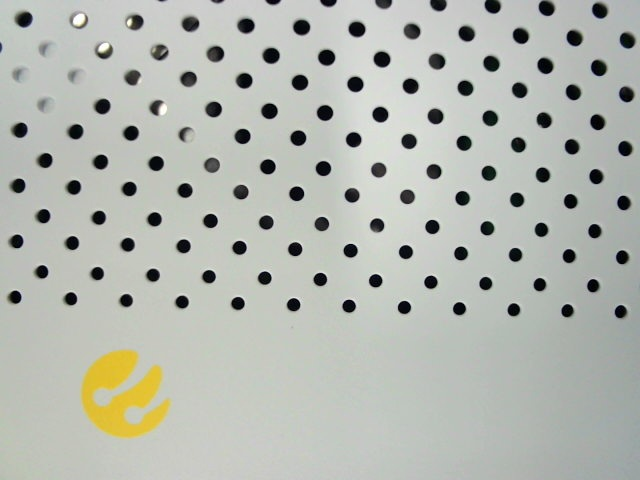AV_H3600Yellow: (59, 340, 188, 442)
